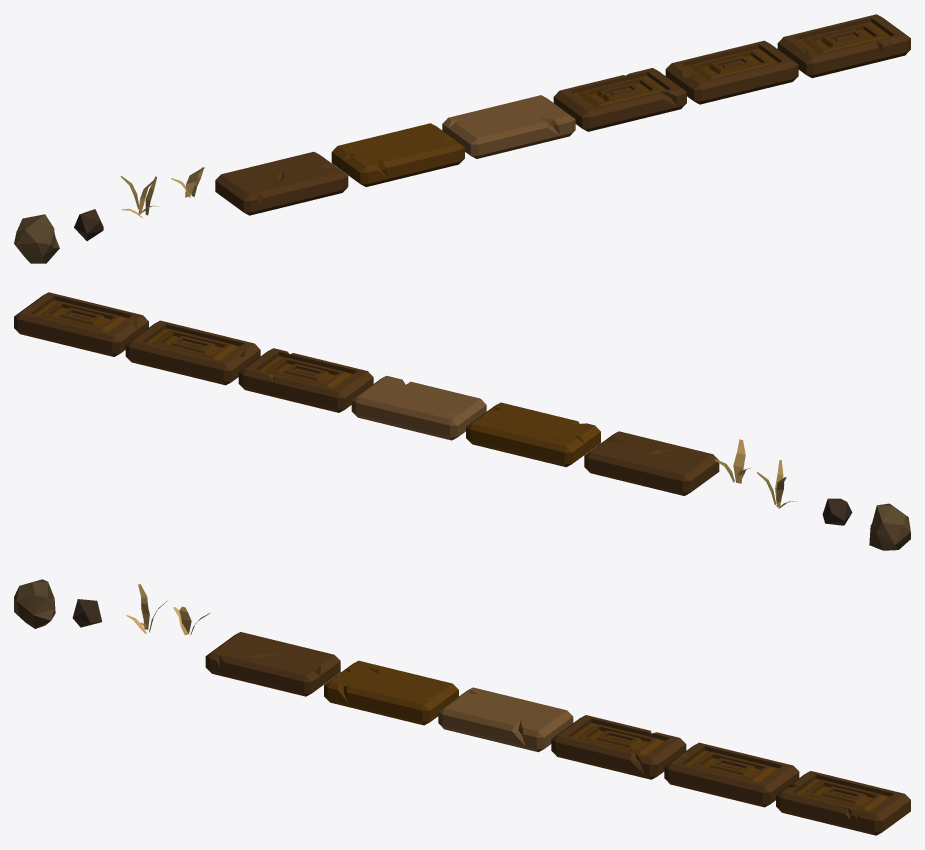
File: grass, stones, bricks.gltf
The picture shows the model from 3 angles, top to bottom: view 1: azimuth 30°, elevation 25°; view 2: azimuth 150°, elevation 25°; view 3: azimuth 330°, elevation 25°; orthographic projection.
Visible parts, largest first — view 1: brick flat 2, brick flat 3, brick ornament 2, brick flat 1, brick ornament 3, brick ornament 1, stone 2, stone 1, grass 1; view 2: brick flat 3, brick flat 2, brick ornament 2, brick flat 1, brick ornament 1, brick ornament 3, stone 2, stone 1; view 3: brick flat 3, brick ornament 3, brick flat 1, brick flat 2, brick ornament 1, brick ornament 2, stone 2, stone 1.
Boxes of the visible parts, x1=… form: brick flat 2: x1=331, y1=123, x2=464, y2=186; brick flat 3: x1=215, y1=151, x2=348, y2=215; brick ornament 2: x1=665, y1=40, x2=798, y2=104; brick flat 1: x1=442, y1=95, x2=575, y2=158; brick ornament 3: x1=777, y1=14, x2=910, y2=78; brick ornament 1: x1=553, y1=68, x2=686, y2=131; stone 2: x1=14, y1=214, x2=59, y2=263; stone 1: x1=74, y1=209, x2=103, y2=240; grass 1: x1=120, y1=176, x2=159, y2=218; brick flat 3: x1=584, y1=431, x2=719, y2=495; brick flat 2: x1=466, y1=402, x2=600, y2=467; brick ornament 2: x1=125, y1=320, x2=260, y2=385; brick flat 1: x1=351, y1=375, x2=486, y2=440; brick ornament 1: x1=238, y1=348, x2=373, y2=412; brick ornament 3: x1=14, y1=292, x2=148, y2=356; stone 2: x1=869, y1=503, x2=910, y2=550; stone 1: x1=822, y1=498, x2=852, y2=525; brick flat 3: x1=205, y1=632, x2=340, y2=696; brick ornament 3: x1=776, y1=771, x2=910, y2=835; brick flat 1: x1=438, y1=687, x2=573, y2=752; brick flat 2: x1=324, y1=660, x2=458, y2=725; brick ornament 1: x1=551, y1=715, x2=686, y2=779; brick ornament 2: x1=664, y1=742, x2=799, y2=807; stone 2: x1=14, y1=579, x2=55, y2=628; stone 1: x1=72, y1=599, x2=102, y2=627.
Bounding box in the file's own units: 10.94 × 0.7546 × 0.7177.
